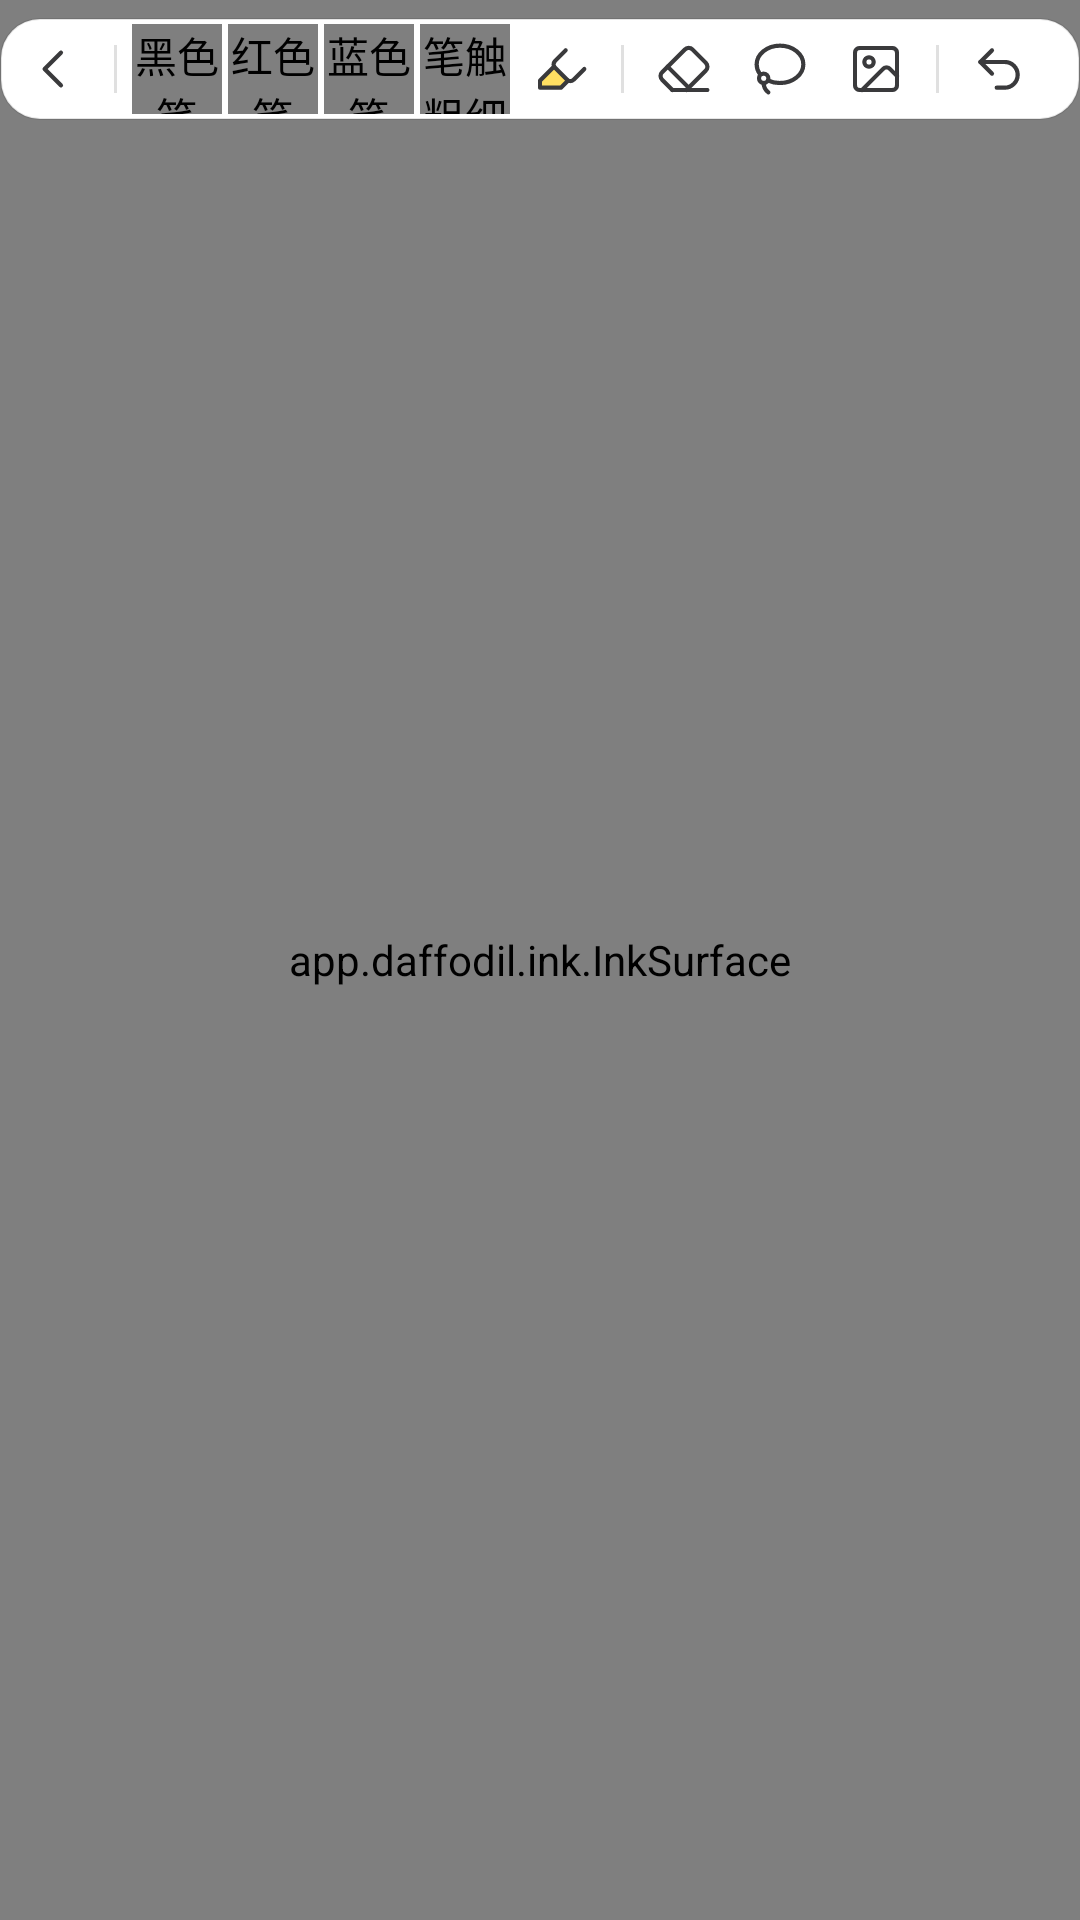

Screen size 1080*1920. Icon name, then its center in pixels as (x=x, y=y):
套索: (x=780, y=69)
插入图片: (x=876, y=69)
撤销: (x=999, y=69)
橡皮: (x=684, y=69)
荧光笔: (x=562, y=69)
返回: (x=52, y=69)
